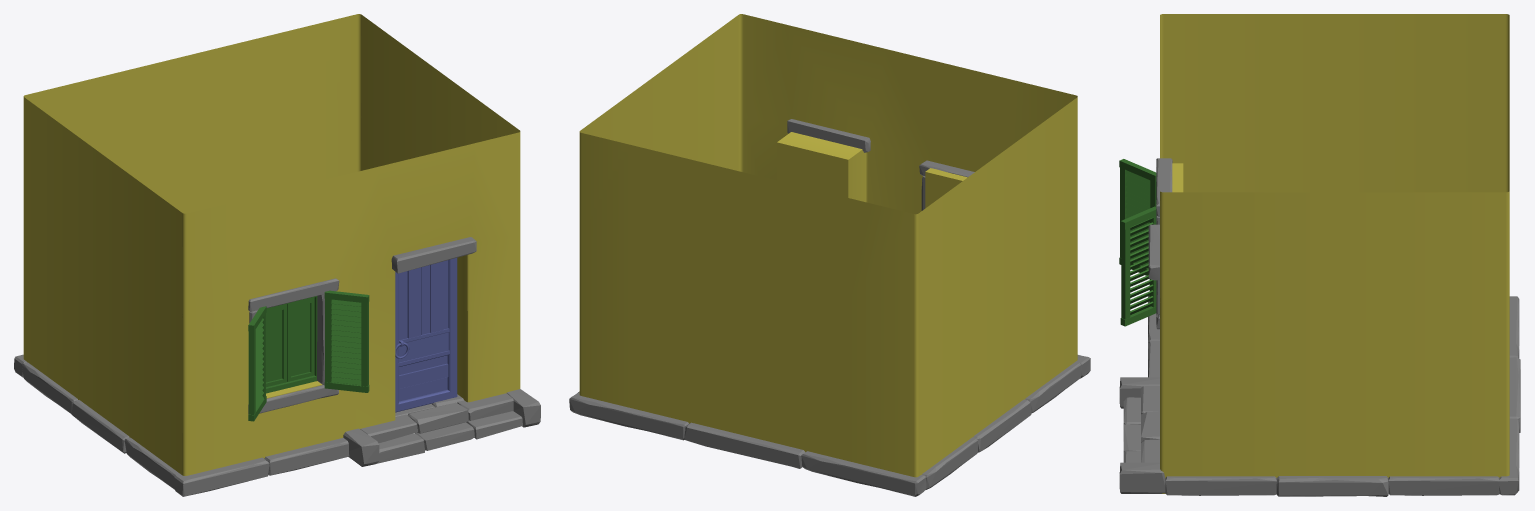
The model's file is SM_building_modular_floor_1x1_03.fbx.
3 renders of one model, left to right at view 1: azimuth 30°, elevation 25°; view 2: azimuth 150°, elevation 25°; view 3: azimuth 270°, elevation 25°, orthographic. The views are drawn at different scales.
Parts seen in each view (by area): view 1: Object32358; view 2: Object32358; view 3: Object32358.
Part boxes in pixels (x1,y1,x2,y2): Object32358: (14,14,540,496); Object32358: (569,14,1090,496); Object32358: (1119,14,1520,496).
Bounding box in the file's own units: 213 × 163 × 194.
